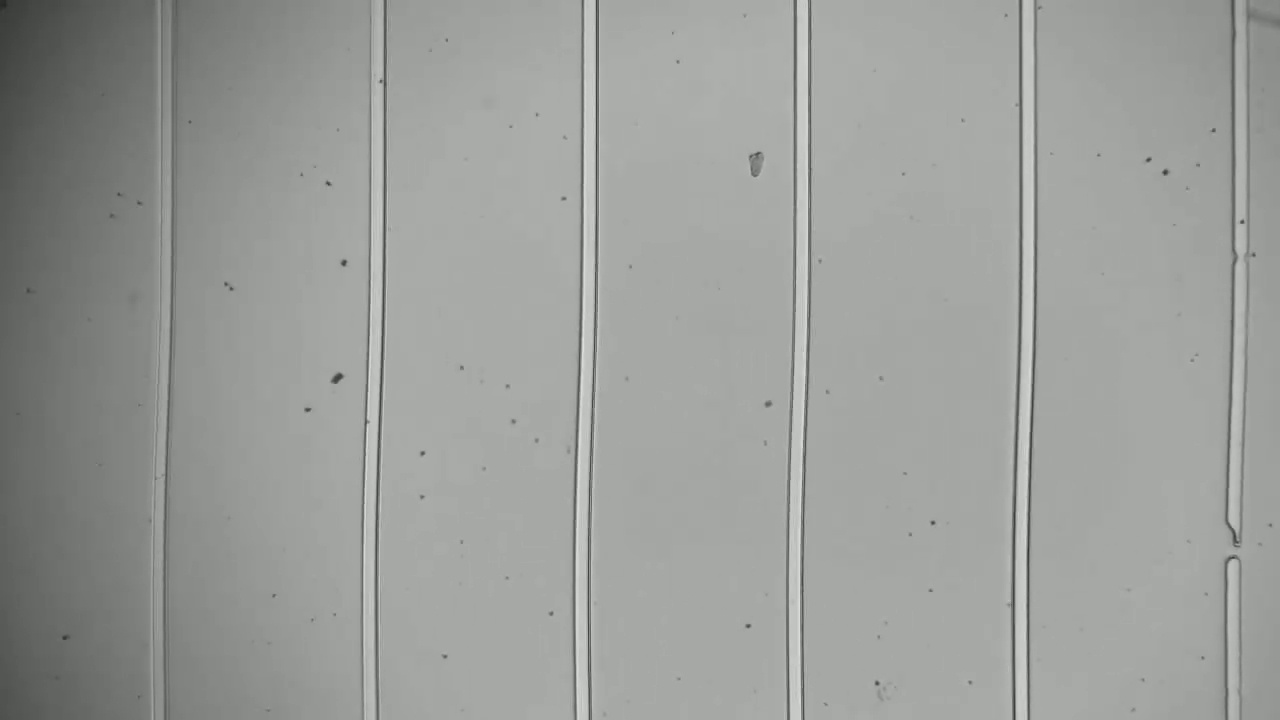edge_bite: (1224, 241, 1258, 270)
open: (1212, 511, 1250, 576)
